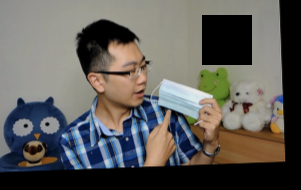without_mask: (105, 53, 148, 109)
